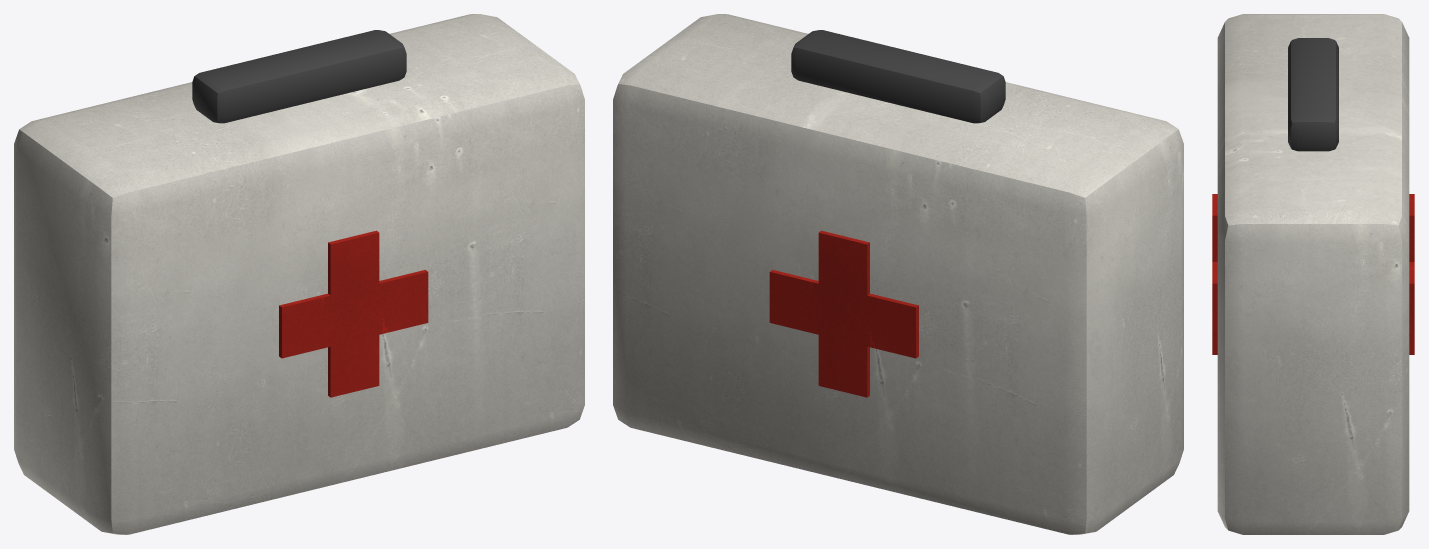
Rendered from firstaidkit.glb.
3 renders of one model, left to right at view 1: azimuth 30°, elevation 25°; view 2: azimuth 150°, elevation 25°; view 3: azimuth 270°, elevation 25°, orthographic. The views are drawn at different scales.
Visible parts, largest first — view 1: FirstAidKit; view 2: FirstAidKit; view 3: FirstAidKit.
Boxes of the visible parts, <box> form: FirstAidKit: <box>14,14,584,534</box>; FirstAidKit: <box>613,14,1183,534</box>; FirstAidKit: <box>1212,14,1414,534</box>.
Size of the model in its own units: 0.4 by 0.31 by 0.158.
3 materials, 2 textured.
